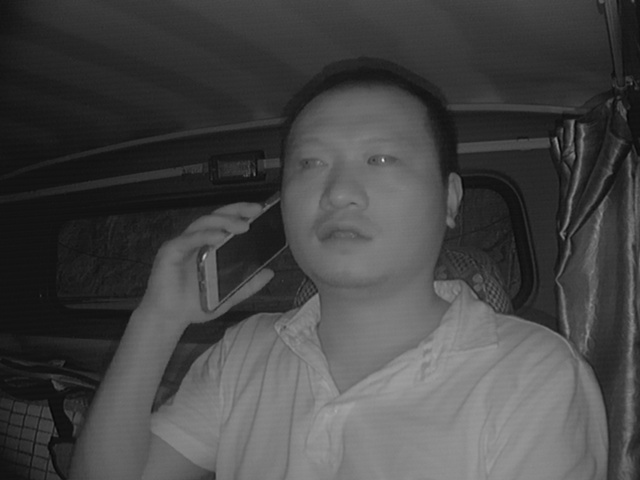hand: (140, 196, 272, 325)
